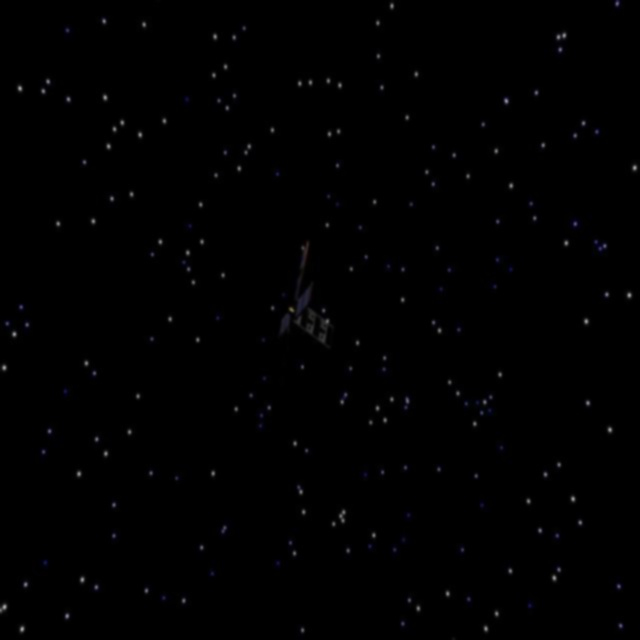medium_debris: (257, 241, 338, 369)
